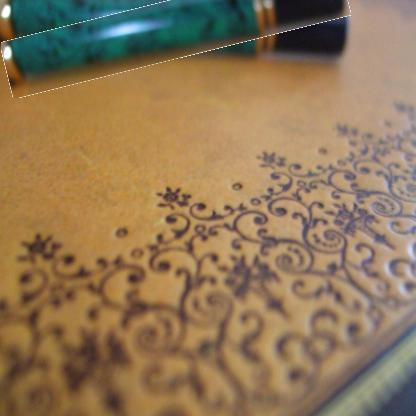Pen: (1, 0, 350, 79)
